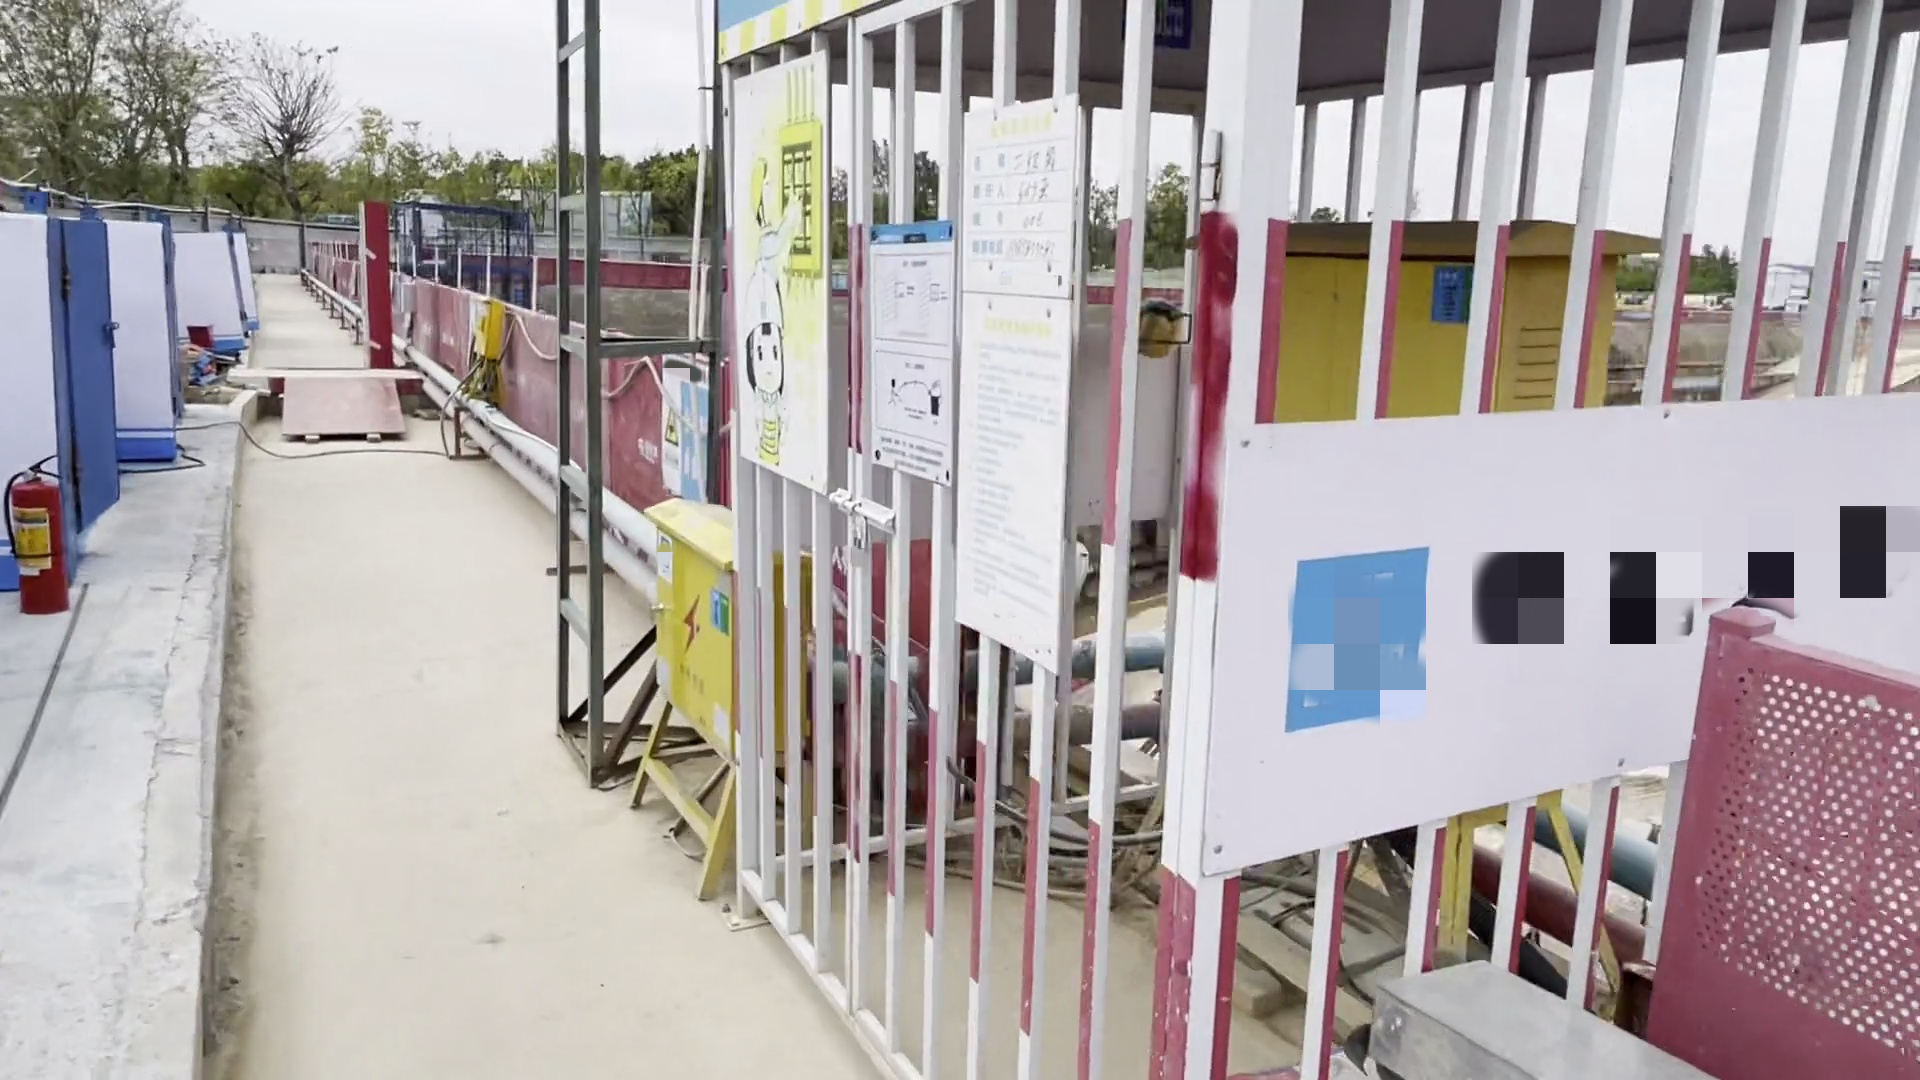board: (273, 371, 422, 456)
ebox: (1263, 189, 1662, 411), (630, 487, 733, 926), (472, 299, 504, 392)
fence: (1622, 612, 1916, 1080)
slogan: (728, 50, 840, 508)
